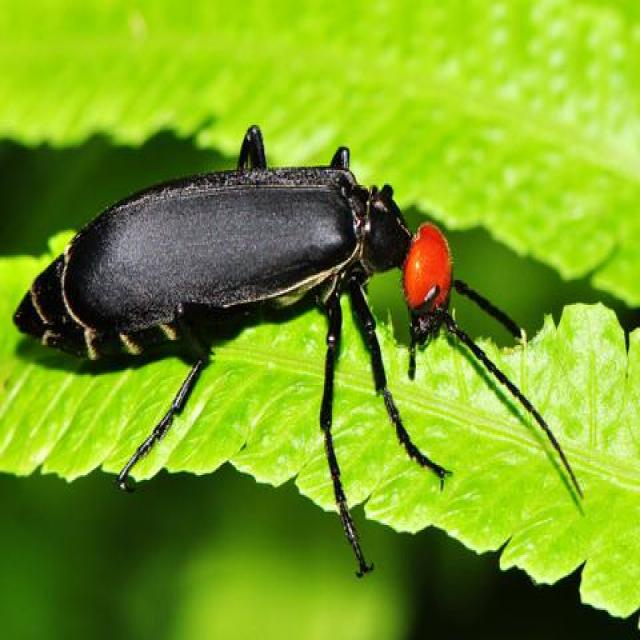BlisterBeetle-Adult-: (9, 116, 588, 583)
